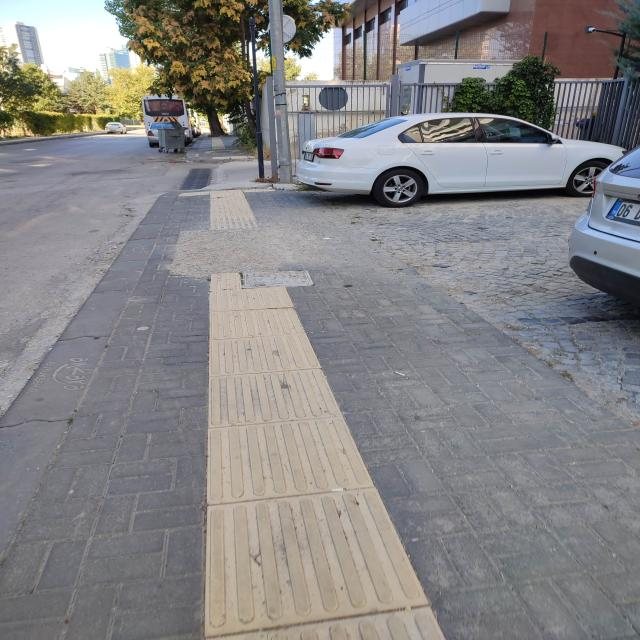sidewalk: (2, 190, 637, 640)
